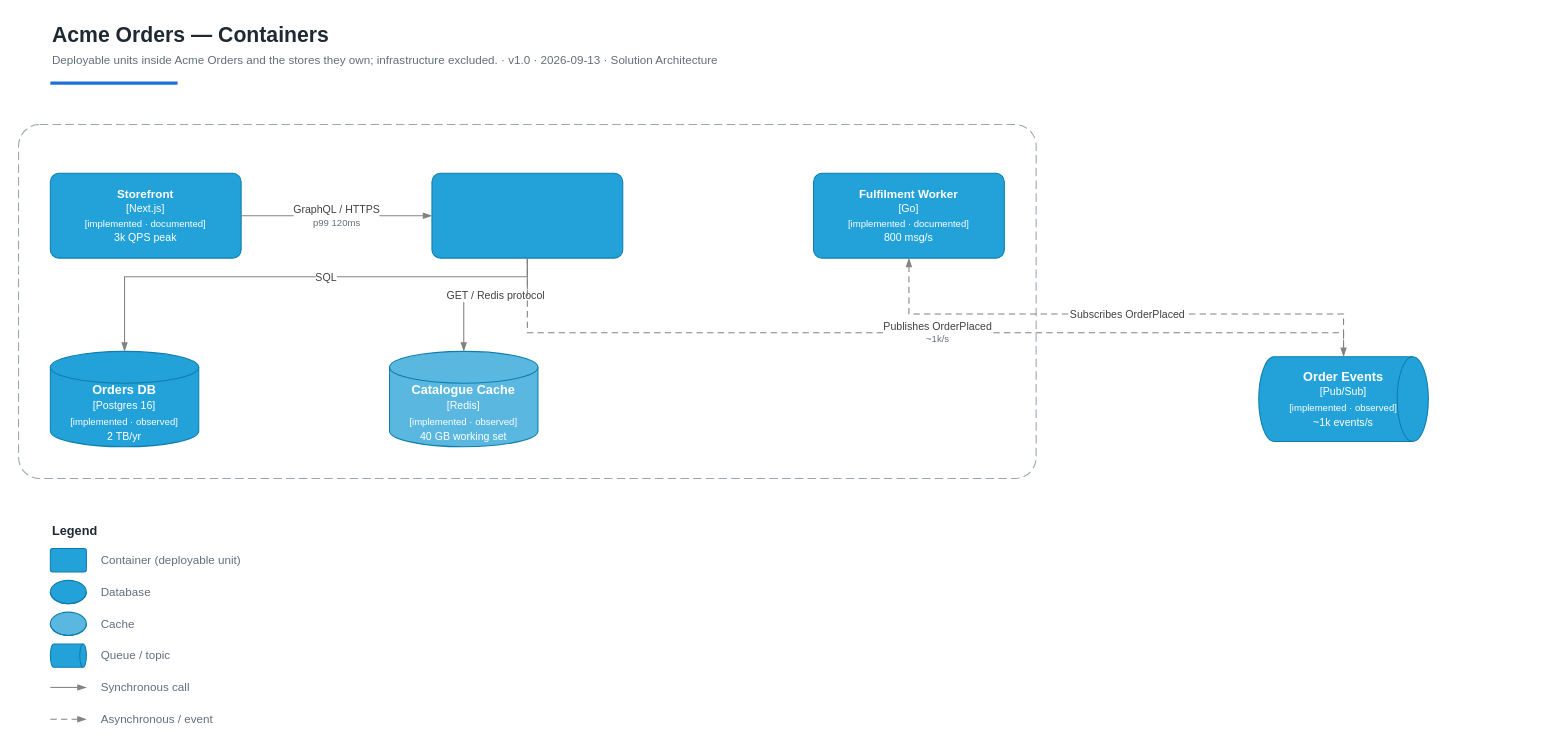
Image size: 1553x748. Some labels were removed from this diagram. The box of each missing label's shape, as (x1, y1, x2, y2) in pixels:
GKE — asia-southeast1: (17, 123, 1036, 479)
Order API [Go] [implemented · documented] 12k QPS peak · p99 200ms: (431, 172, 623, 258)
